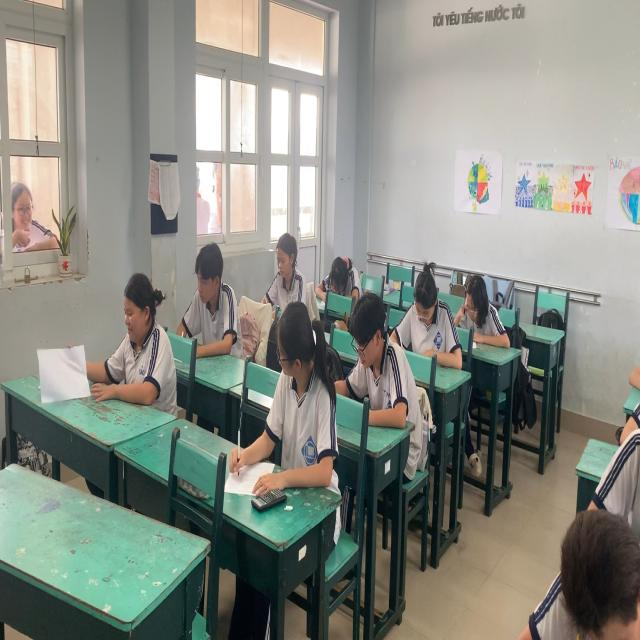cheating: (255, 306, 332, 483)
not_cheating: (541, 480, 640, 634), (102, 266, 176, 414), (341, 295, 414, 423), (188, 235, 238, 353), (405, 266, 454, 366), (453, 264, 506, 346), (268, 223, 303, 311), (330, 248, 360, 315)
